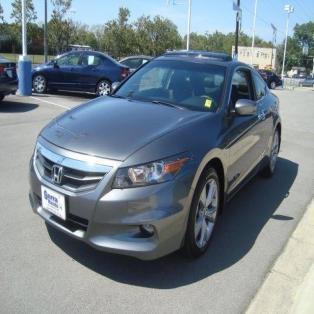Auto: (29, 51, 282, 262)
